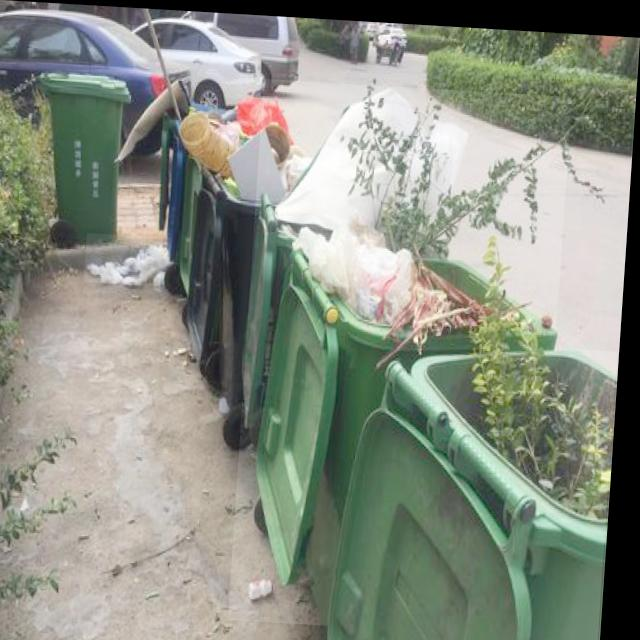garbage: (88, 232, 179, 285)
garbage_bin: (34, 68, 131, 240)
overflow: (236, 75, 573, 631), (335, 331, 622, 640), (159, 86, 276, 380)
